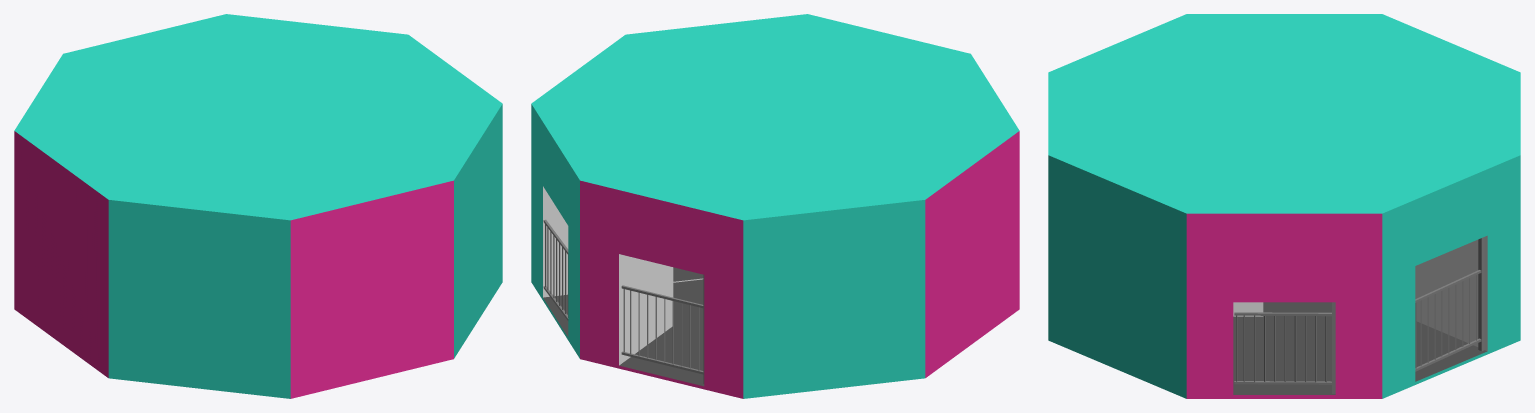
The model's file is Mirrors.glb.
3 renders of one model, left to right at view 1: azimuth 30°, elevation 25°; view 2: azimuth 150°, elevation 25°; view 3: azimuth 270°, elevation 25°, orthographic. The views are drawn at different scales.
Visible parts, largest first — view 1: Cylinder; view 2: Cylinder; view 3: Cylinder, Cube.037.
Part boxes in pixels (x1,y1,x2,y2): Cylinder: (14,14,502,398); Cylinder: (531,14,1019,398); Cylinder: (1048,14,1520,398); Cube.037: (1478,237,1484,351).
Bounding box in the file's own units: 9.24 × 4 × 9.24.
